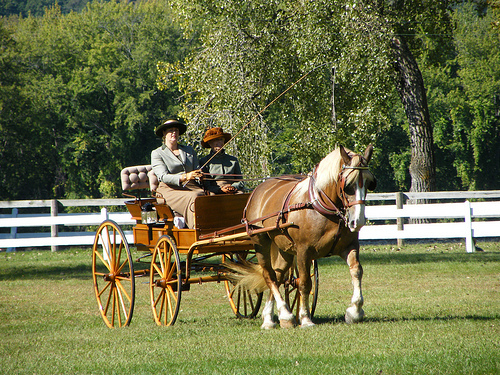horse: (242, 143, 378, 331)
